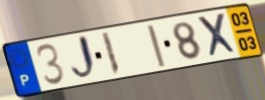3: (36, 42, 66, 86)
8: (170, 20, 204, 61)
I: (100, 30, 123, 78), (145, 23, 168, 69)
J: (70, 33, 100, 84)
X: (195, 11, 241, 60)
